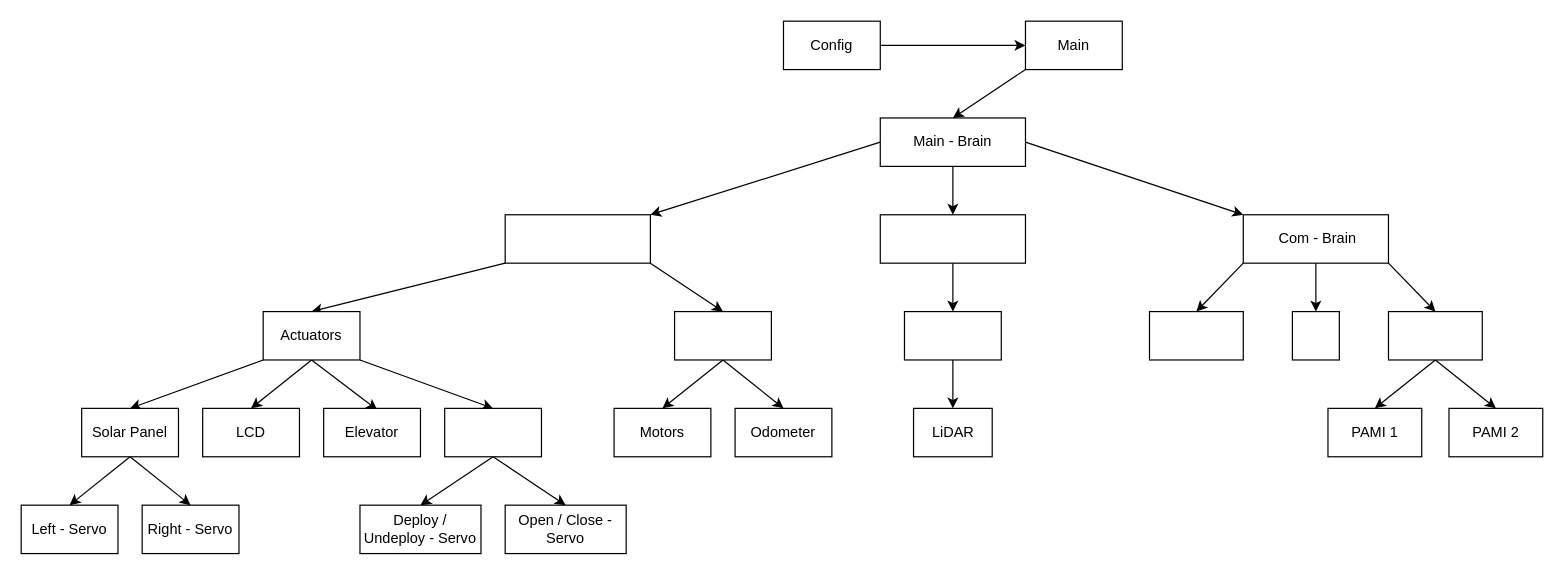
The diagram is 1565 pixels wide and 575 high, and some of its shapes have lost their labels. Each missing label, with the centre of its shape:
"ACS" goes at point (952, 335).
"Controllers - Brain" goes at point (577, 238).
"God Hand" goes at point (492, 432).
"PAMIs" goes at point (1434, 335).
"RC" goes at point (1315, 335).
"Rolling Basis" goes at point (722, 335).
"Sensors - Brain" goes at point (952, 238).
"Zombie" goes at point (1195, 335).
